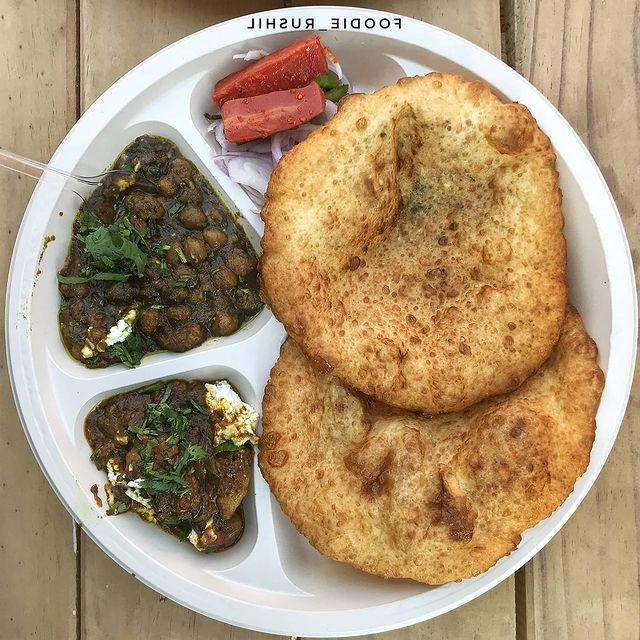Chole: (95, 170, 247, 352)
